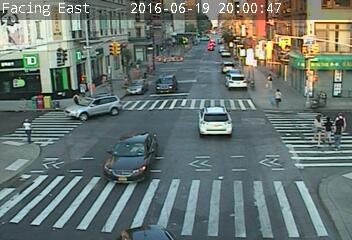neg: (301, 76, 321, 102), (244, 63, 259, 84), (146, 54, 159, 71), (86, 80, 95, 93)
pos: (326, 109, 351, 151), (304, 112, 332, 149), (317, 115, 341, 146), (15, 116, 36, 144), (269, 85, 288, 111), (263, 72, 277, 90)
